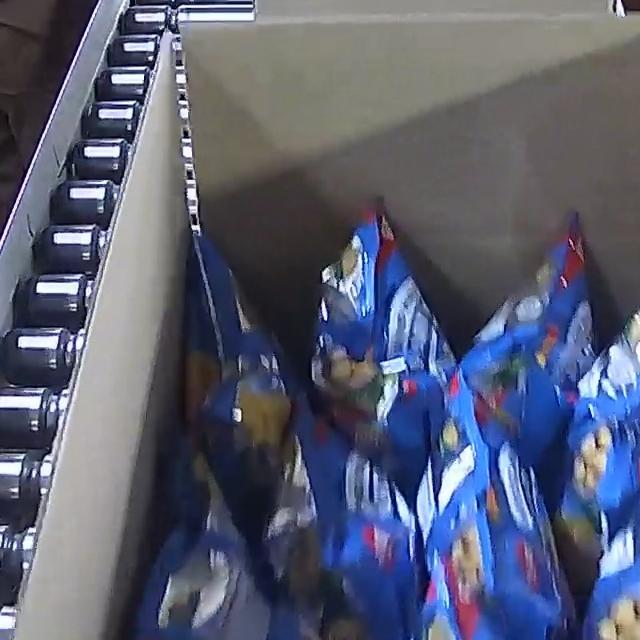paprika: (109, 200, 640, 640)
